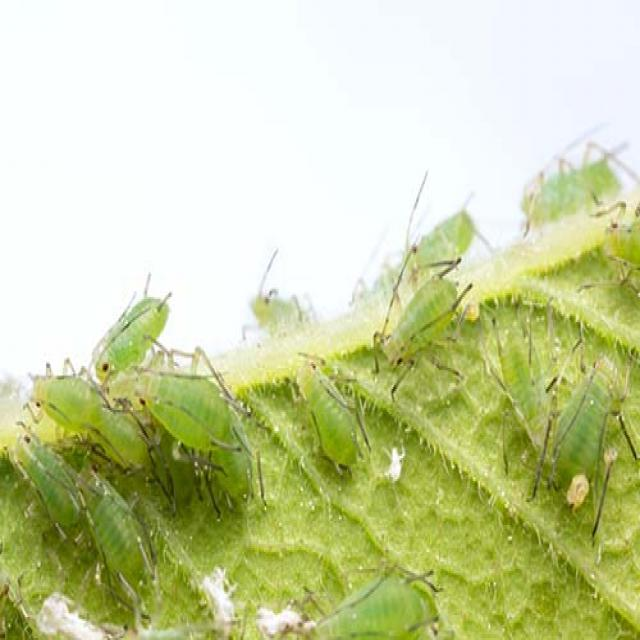Aphid-Grown-: (358, 260, 477, 386), (71, 451, 162, 613), (277, 336, 370, 491), (131, 356, 252, 475), (545, 338, 630, 504), (77, 284, 185, 387), (487, 310, 560, 461), (10, 416, 84, 537)
